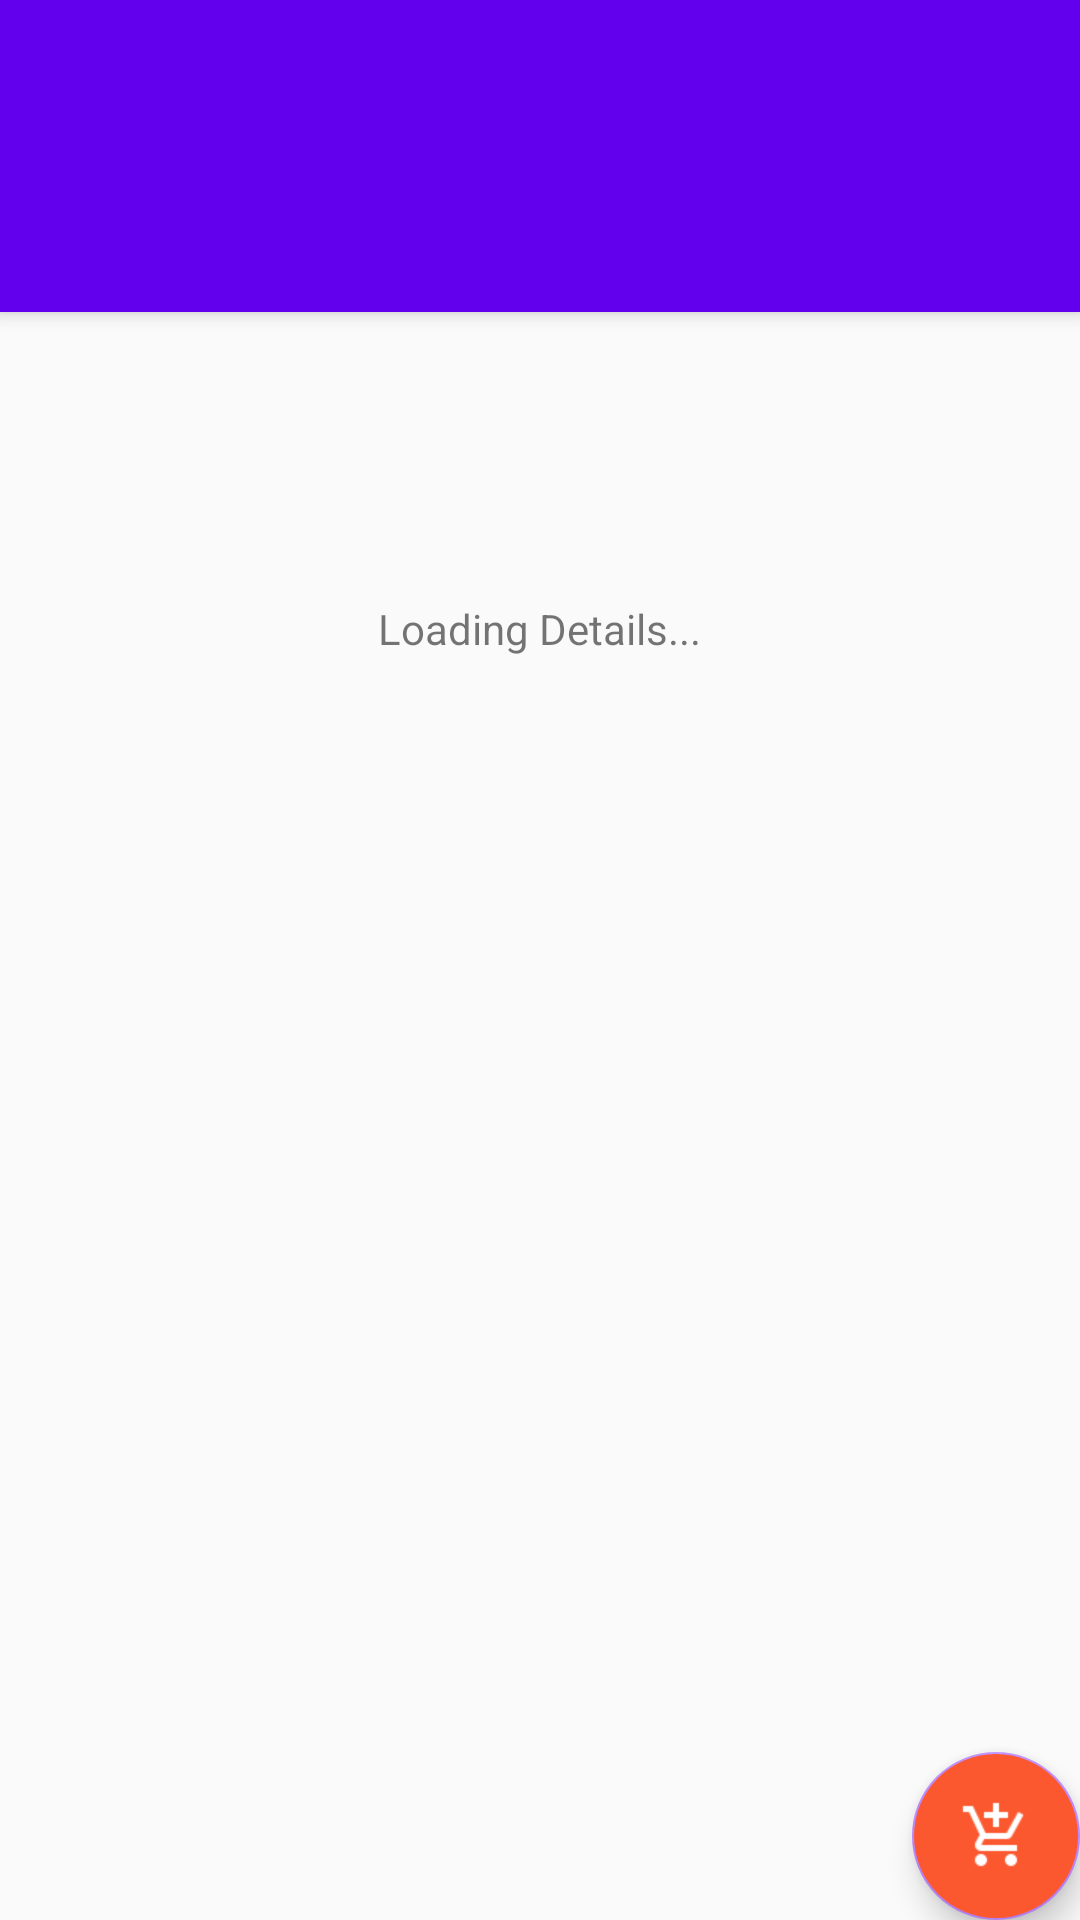

Icon click points for this 1080 x 1920 phone screenshot, format (x=x, y=y):
cart plus: (x=996, y=1836)
